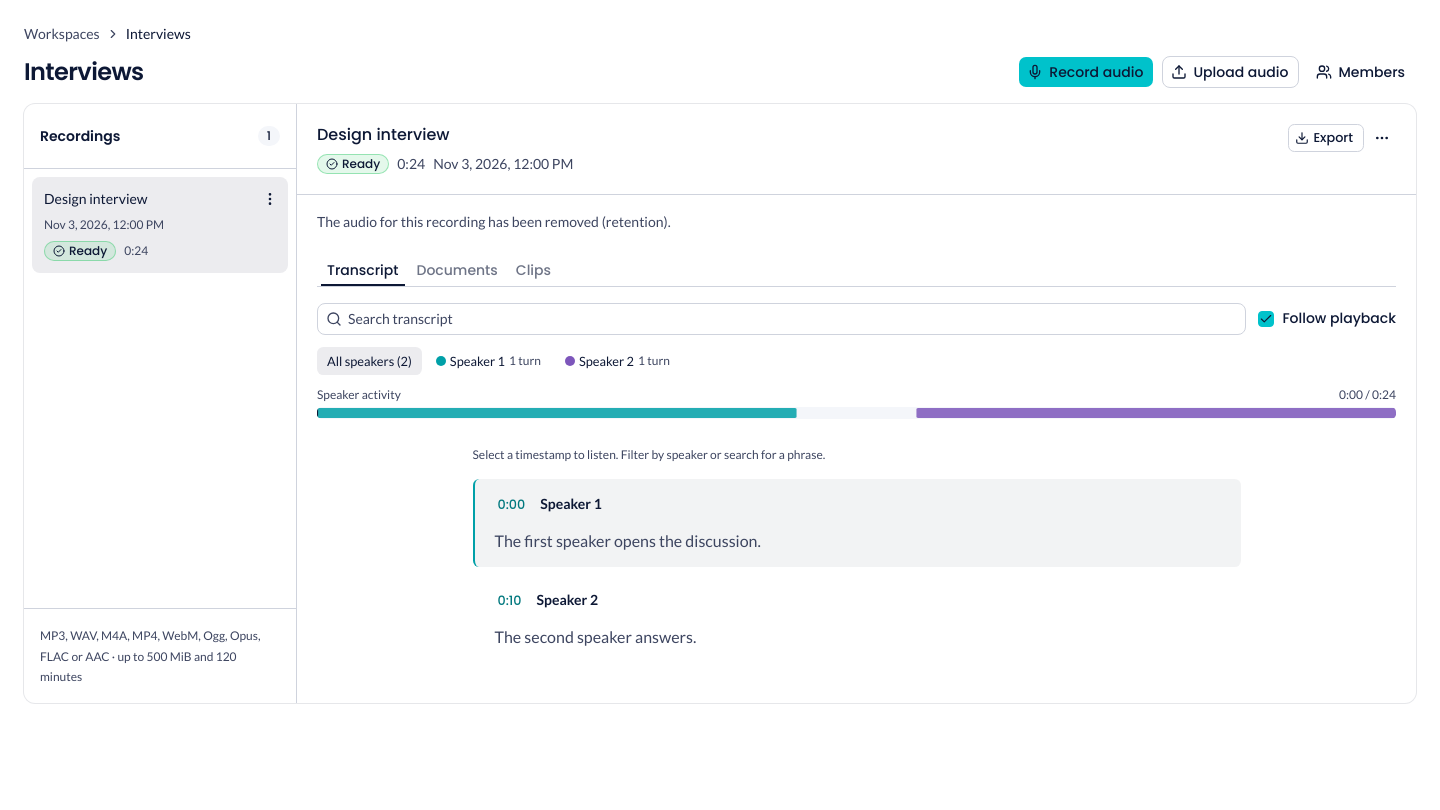
Scenario: filters speaker turns and search together, and can clear an empty result
Expected: the text "The first speaker opens the discussion." is shown, left=494, top=531, right=761, bottom=550
Click the button "Speaker 2 1 turn" at (617, 361), box left=555, top=347, right=680, bottom=375
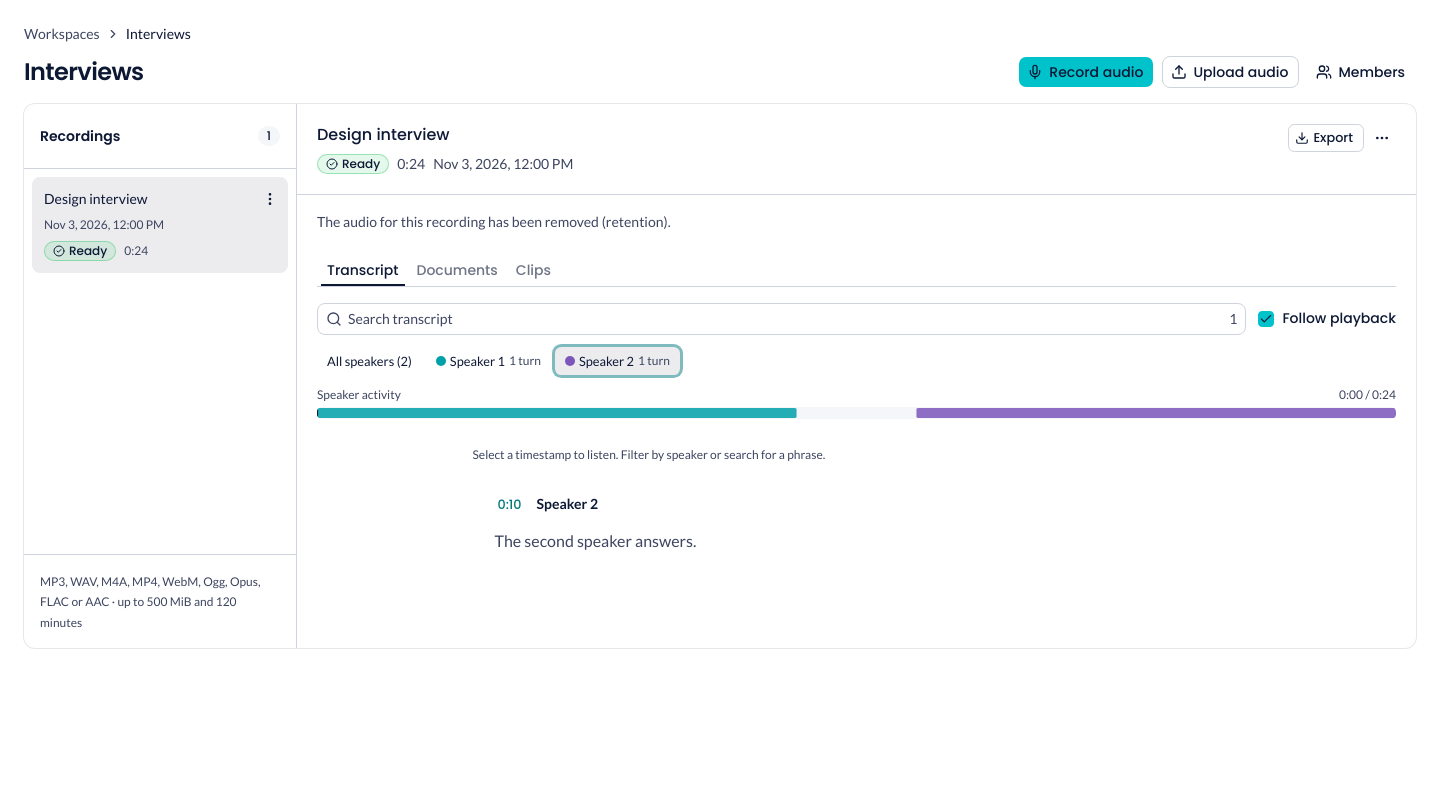
Expected: the text "The second speaker answers." is shown, left=494, top=531, right=696, bottom=550
Now the text "The first speaker opens the discussion." is gone
Type "absent" into the field labelled "Search transcript" at (786, 319), box left=342, top=303, right=1229, bottom=335
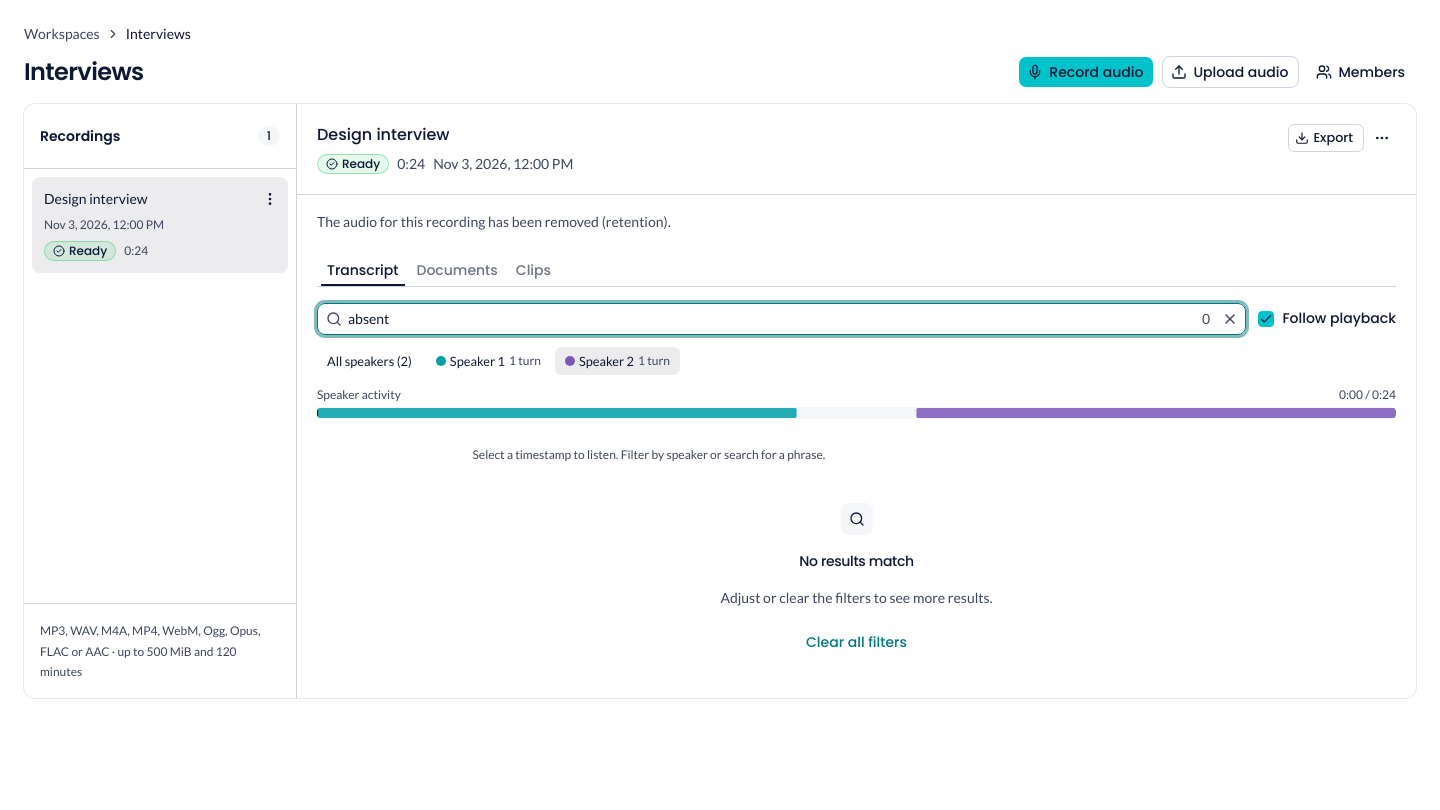
Now the text "The second speaker answers." is gone
Click the button "Clear all filters" at (856, 642), box left=795, top=626, right=918, bottom=658
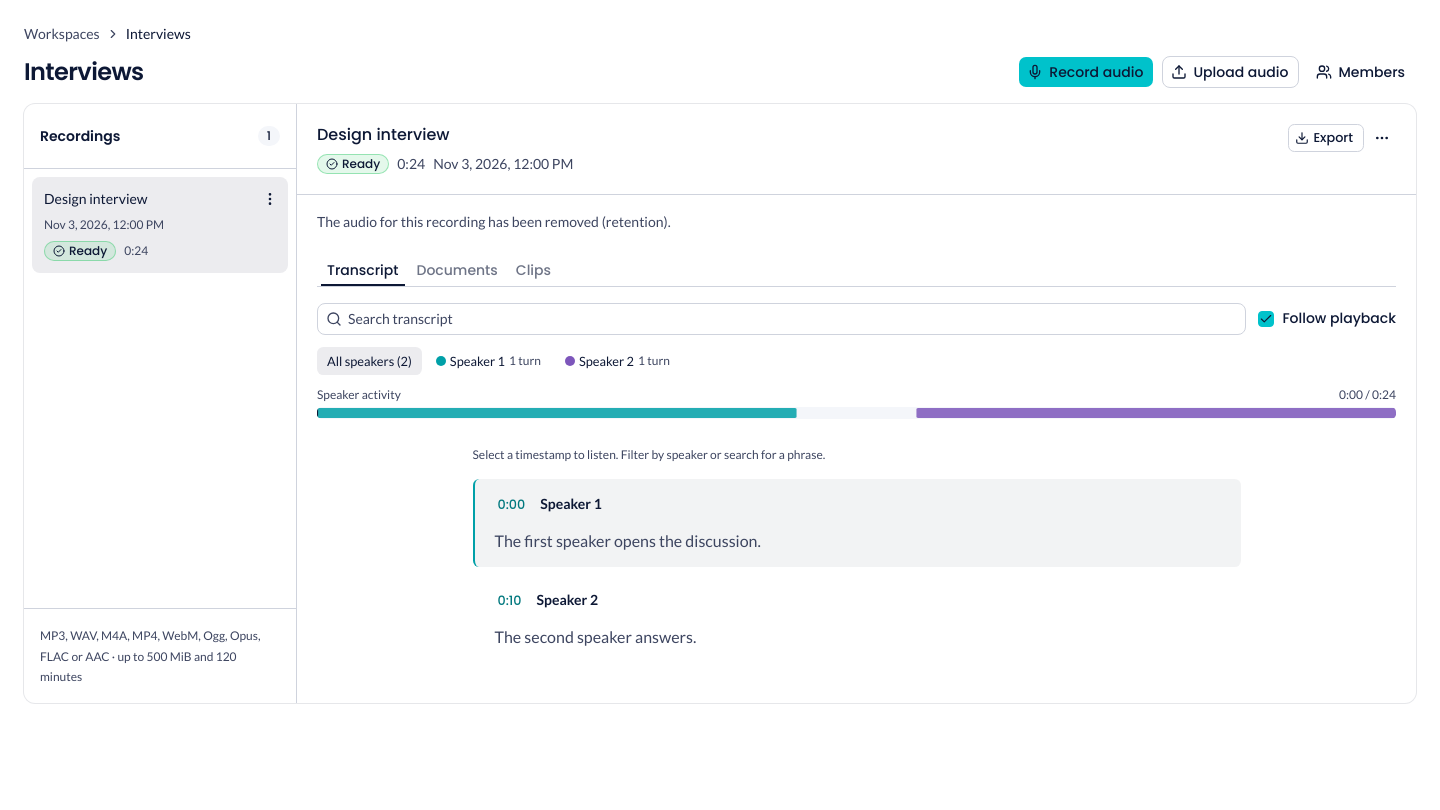
Now the text "The first speaker opens the discussion." is shown, box left=494, top=531, right=761, bottom=550
Now the text "The second speaker answers." is shown, box left=494, top=627, right=696, bottom=646
Click the checkbox named "Follow playback" at (1266, 319), box left=1258, top=311, right=1274, bottom=327
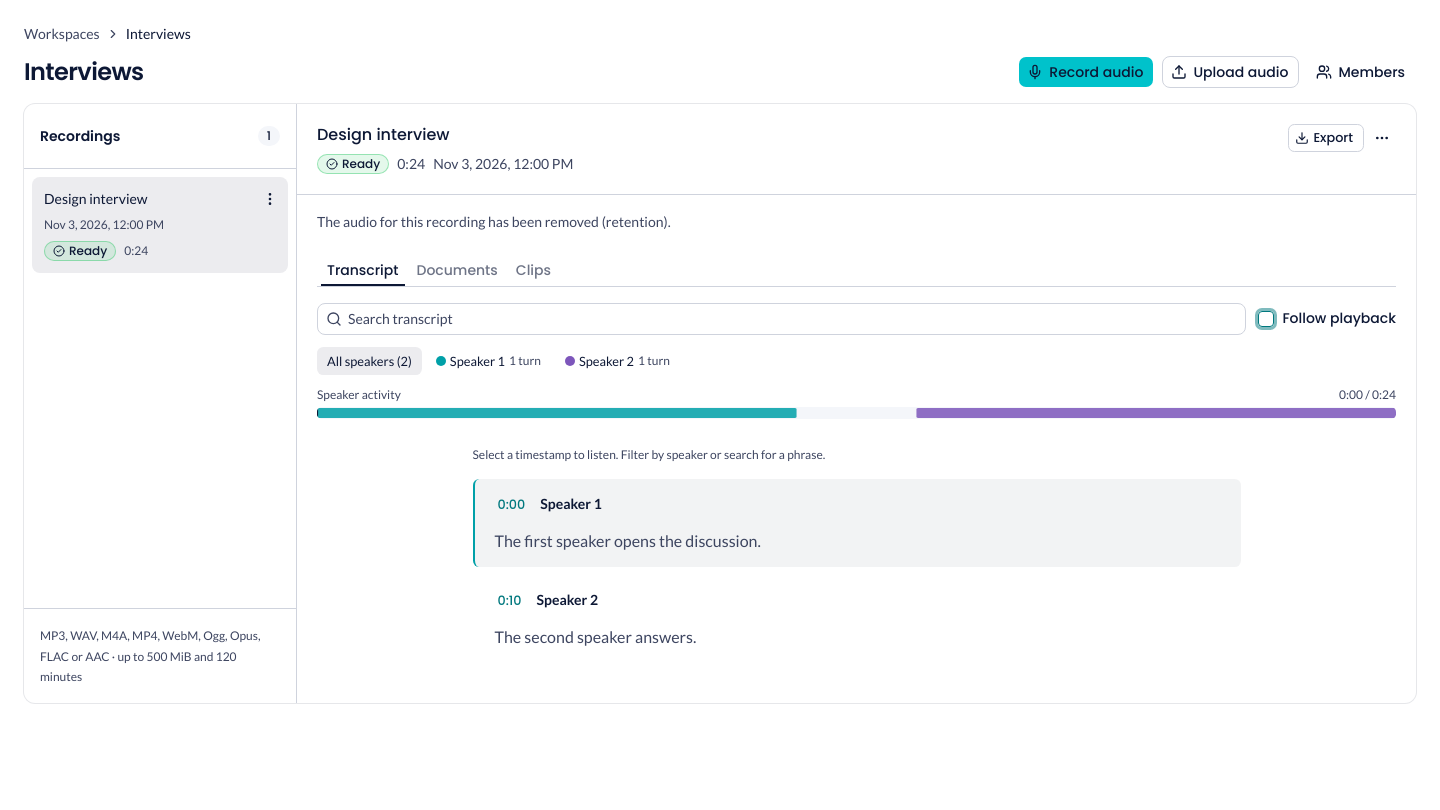
Now the checkbox named "Follow playback" is not checked, box left=1258, top=311, right=1274, bottom=327
